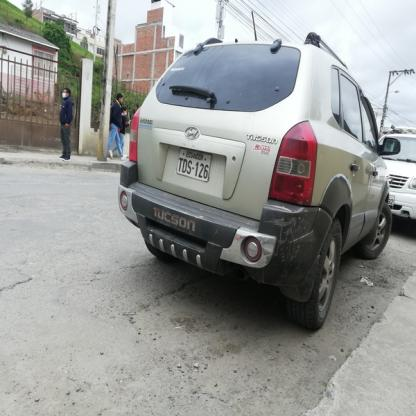Placa: (172, 145, 211, 184)
